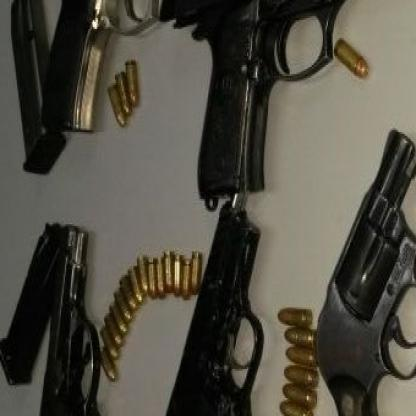gun: (156, 0, 415, 223), (40, 0, 237, 179), (147, 203, 302, 414), (314, 123, 415, 414), (29, 223, 145, 414)
